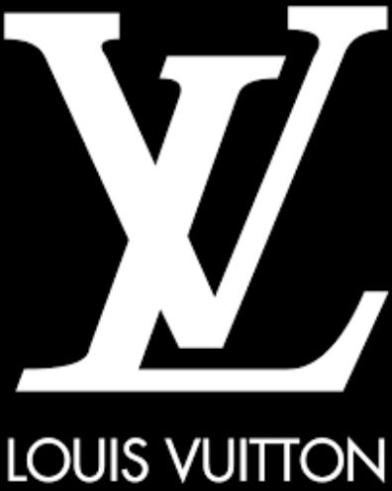LOUIS-VUITTON: (1, 3, 392, 402), (1, 426, 392, 491)
